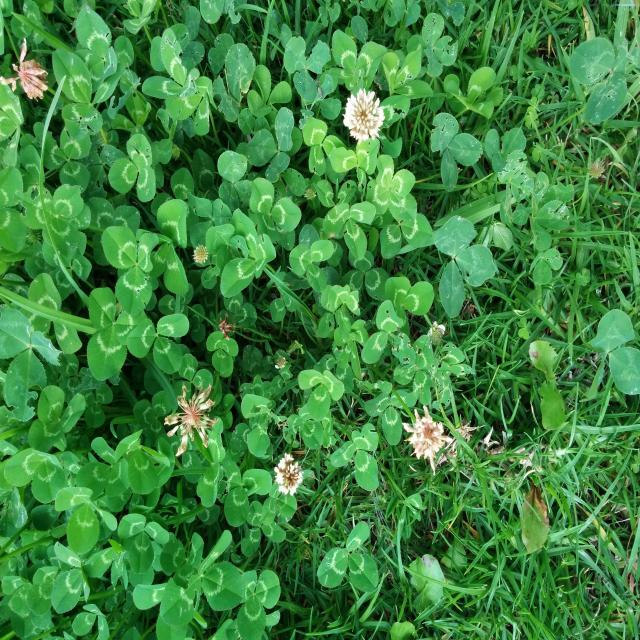Four Leaf Clover: (364, 154, 417, 222)
